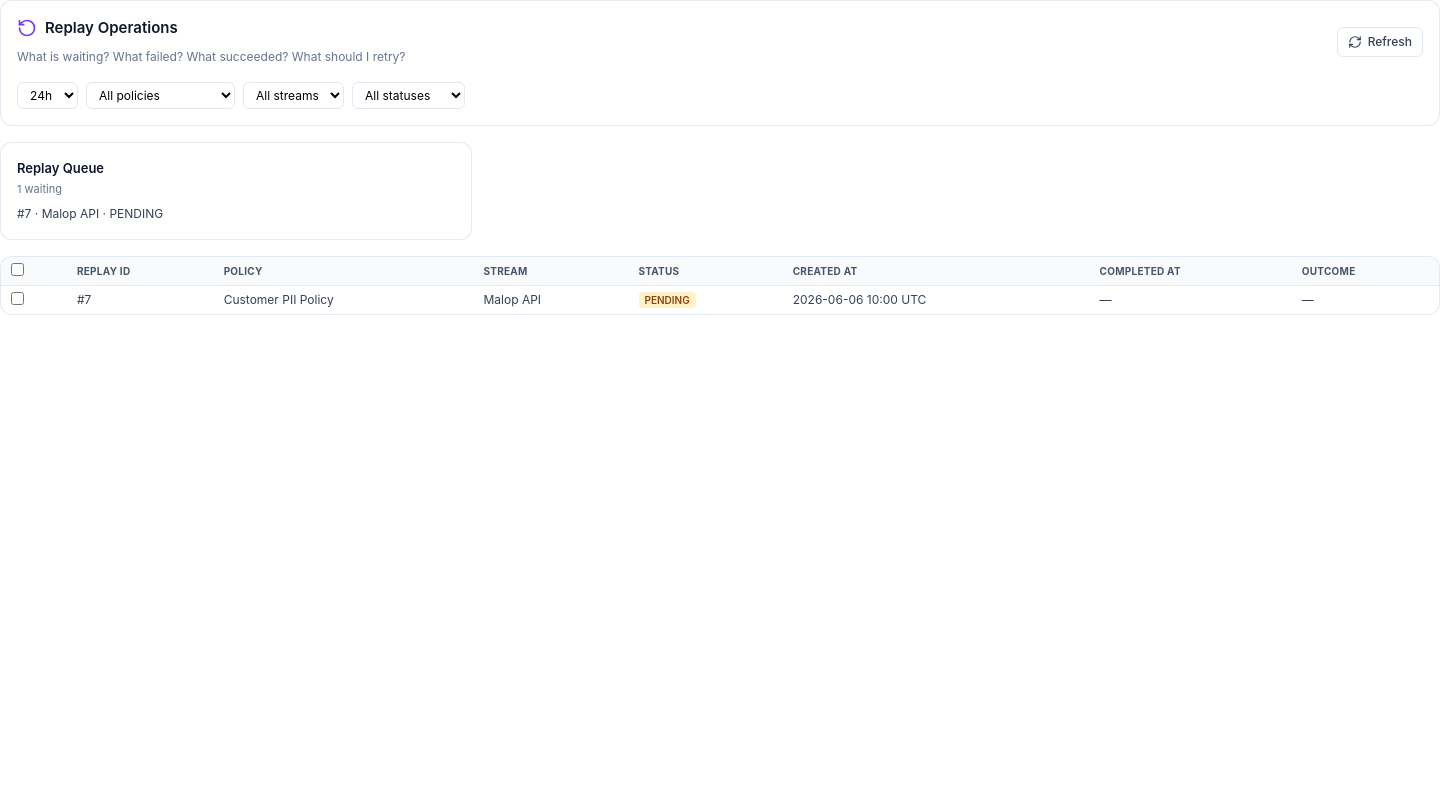
Scenario: ReplayCenterPage › opens detail drawer
The image size is (1440, 810).
Click the row with test id "replay-row-7".
click(279, 300)  # box [1,285,1439,314]
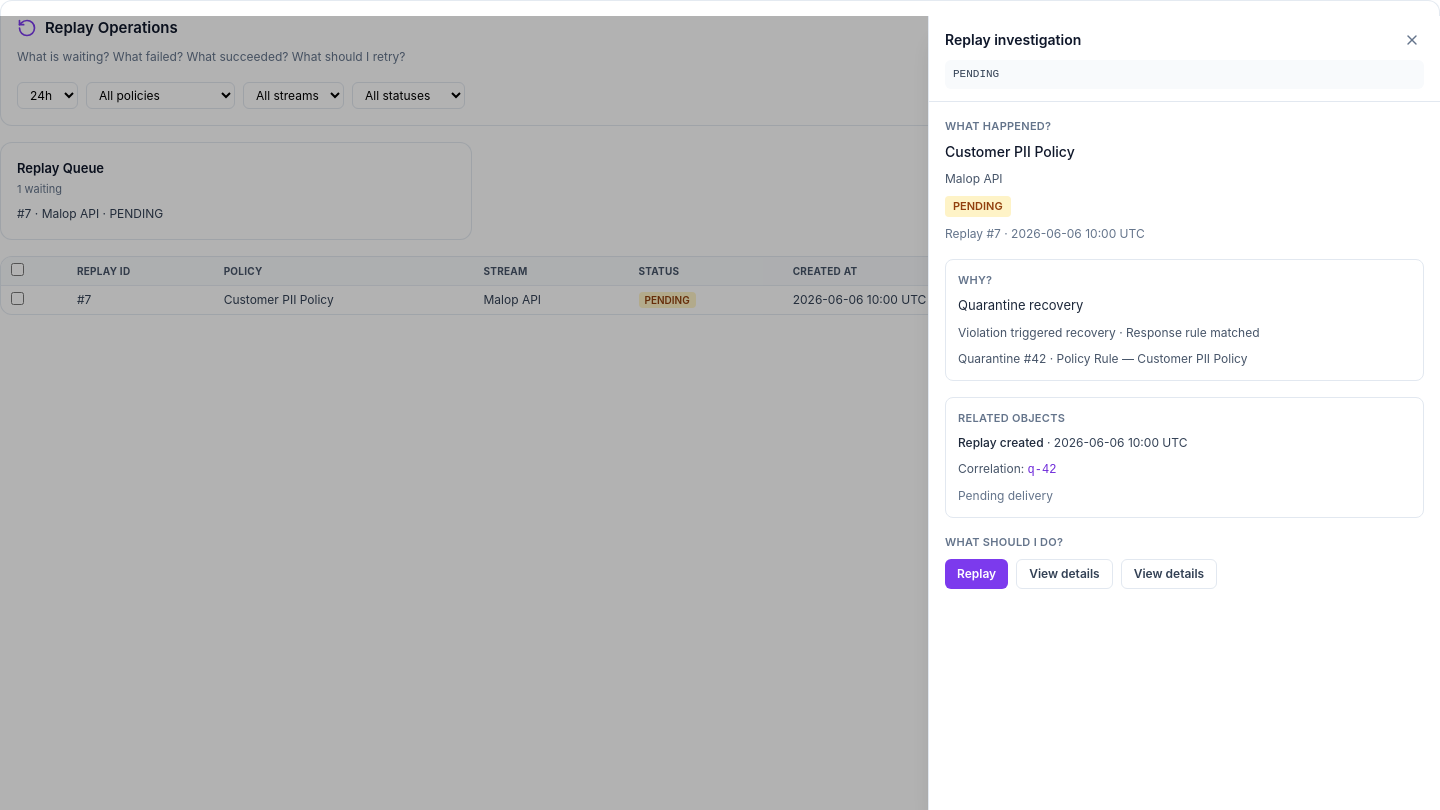
Expected: the element with test id "replay-detail-drawer" is shown, [928,16,1439,809]
Expected: the element with test id "replay-section-what-happened" is shown, [945,118,1145,240]
Expected: the link with test id "replay-audit-link" reads "q-42", [1028,463,1056,477]
